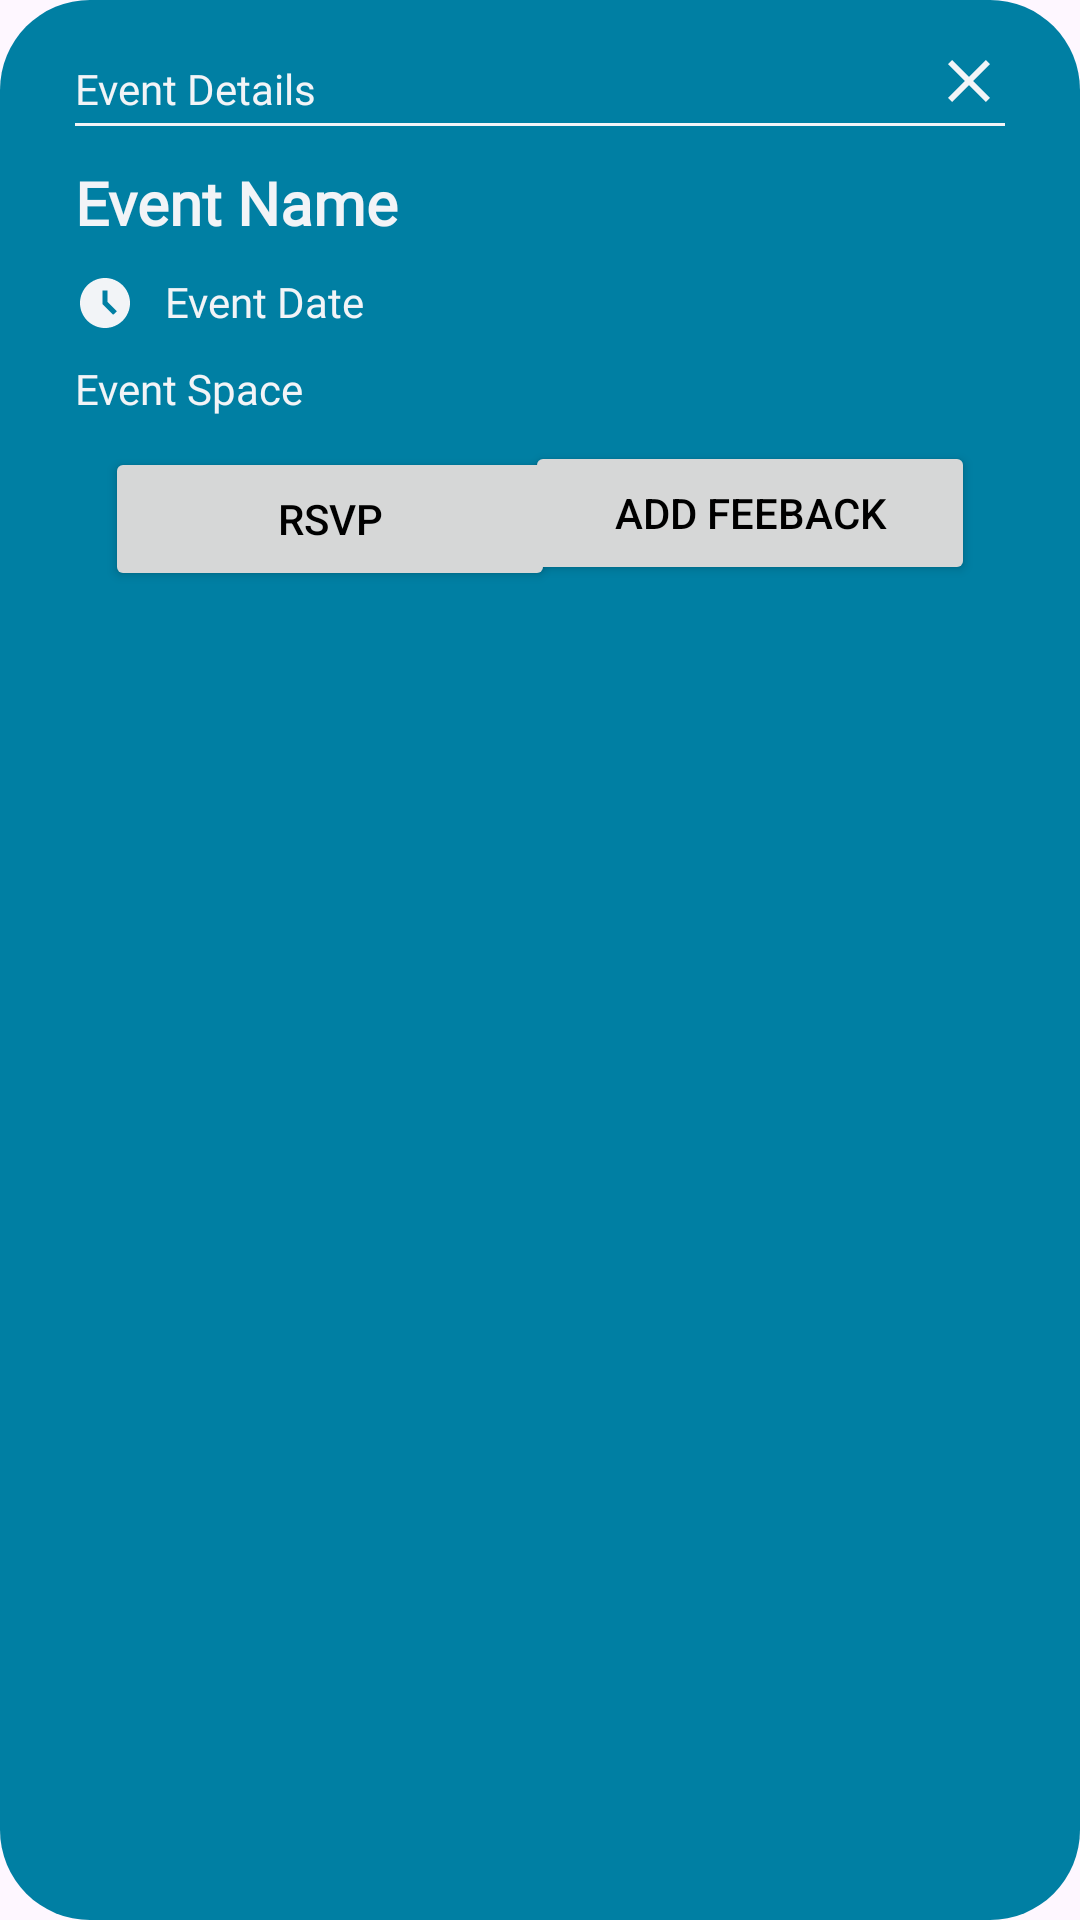

Where to tap for icons on this 1080*1920 app screen, as [x,y]:
access time: [105,303]
close: [969,81]
